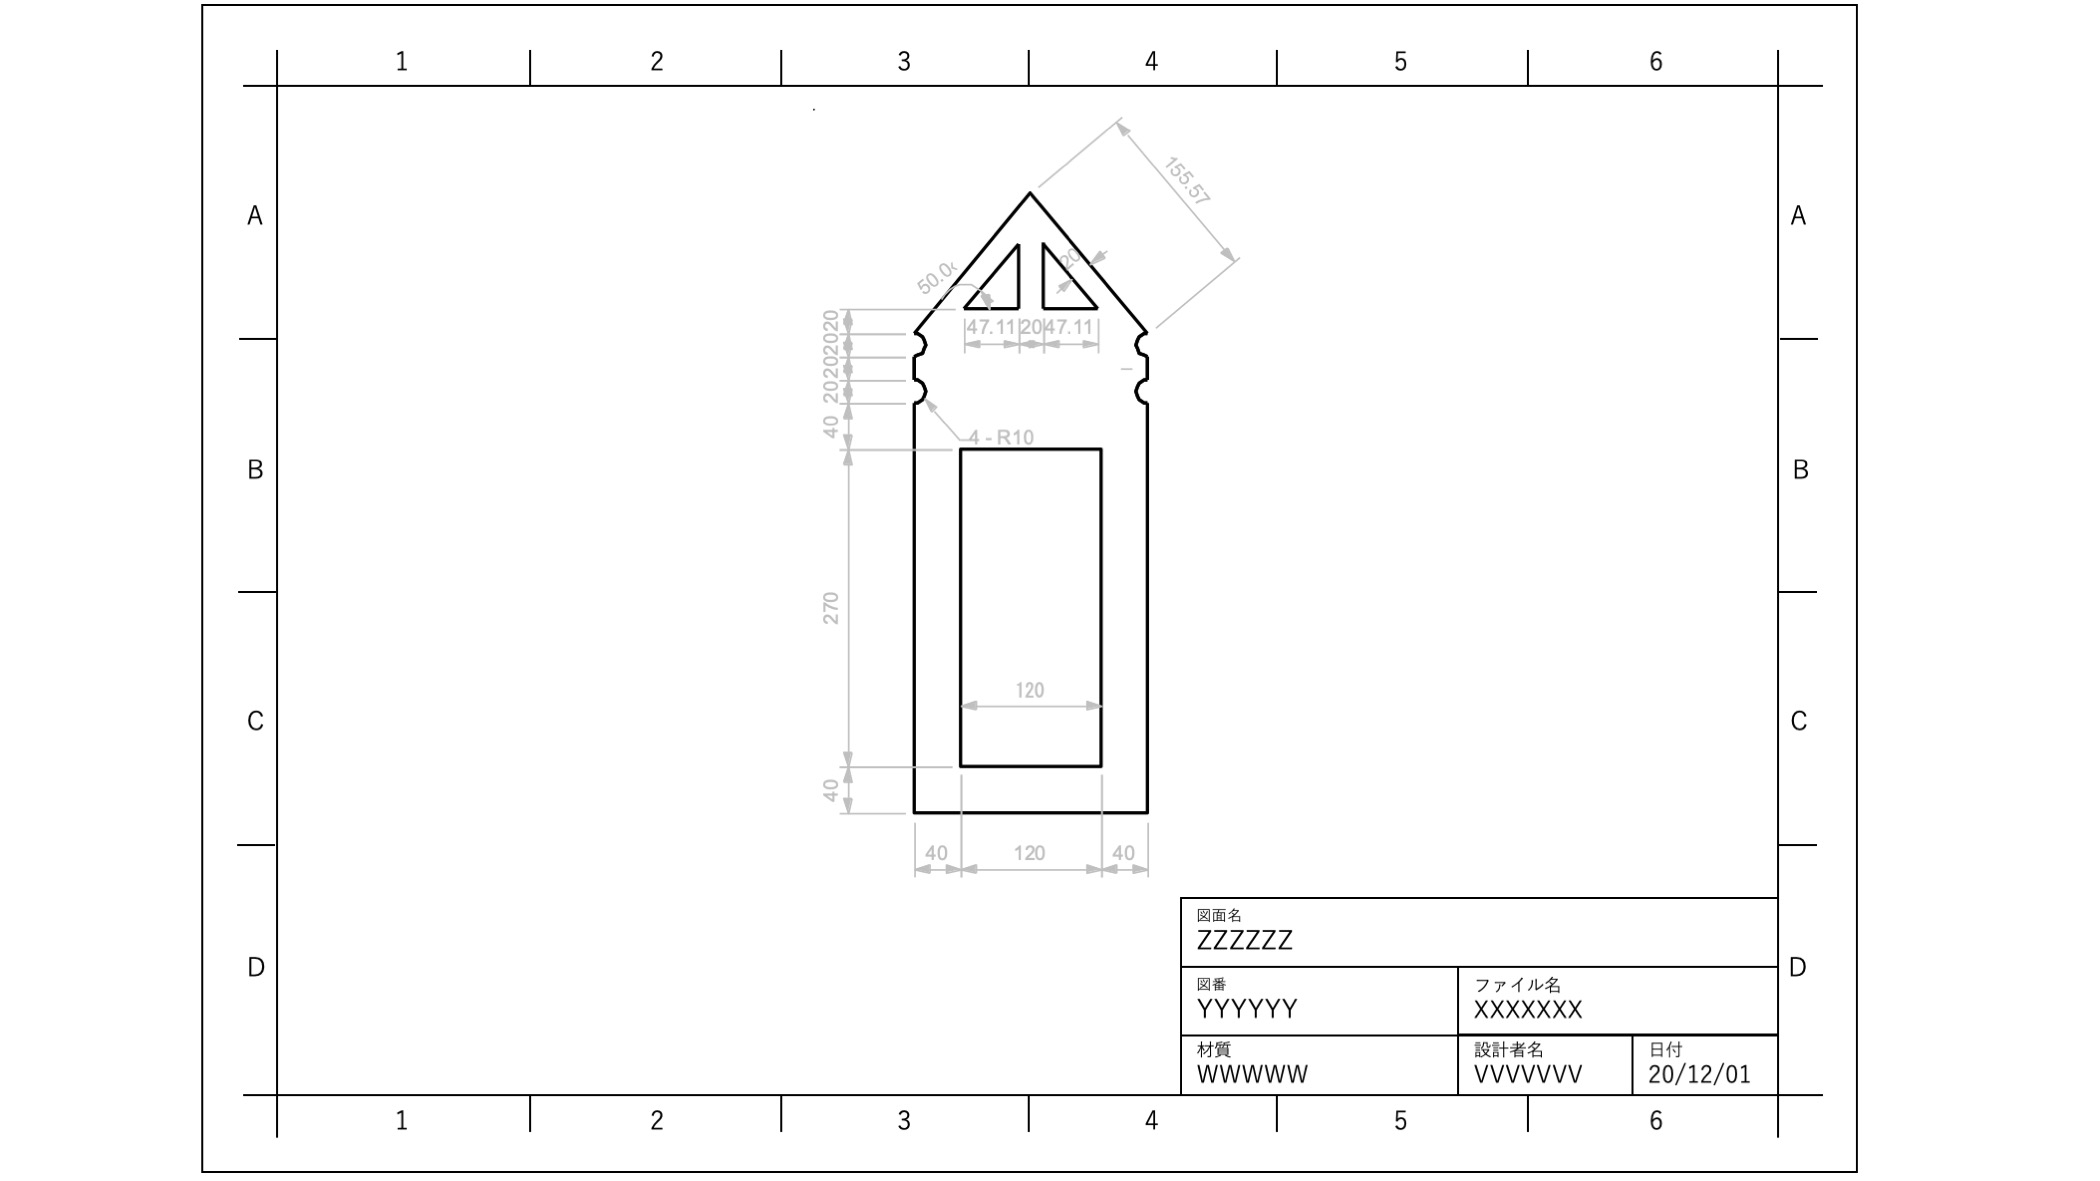rectangle: (948, 435, 1112, 782)
triangle: (1036, 236, 1100, 316), (963, 234, 1024, 316)
